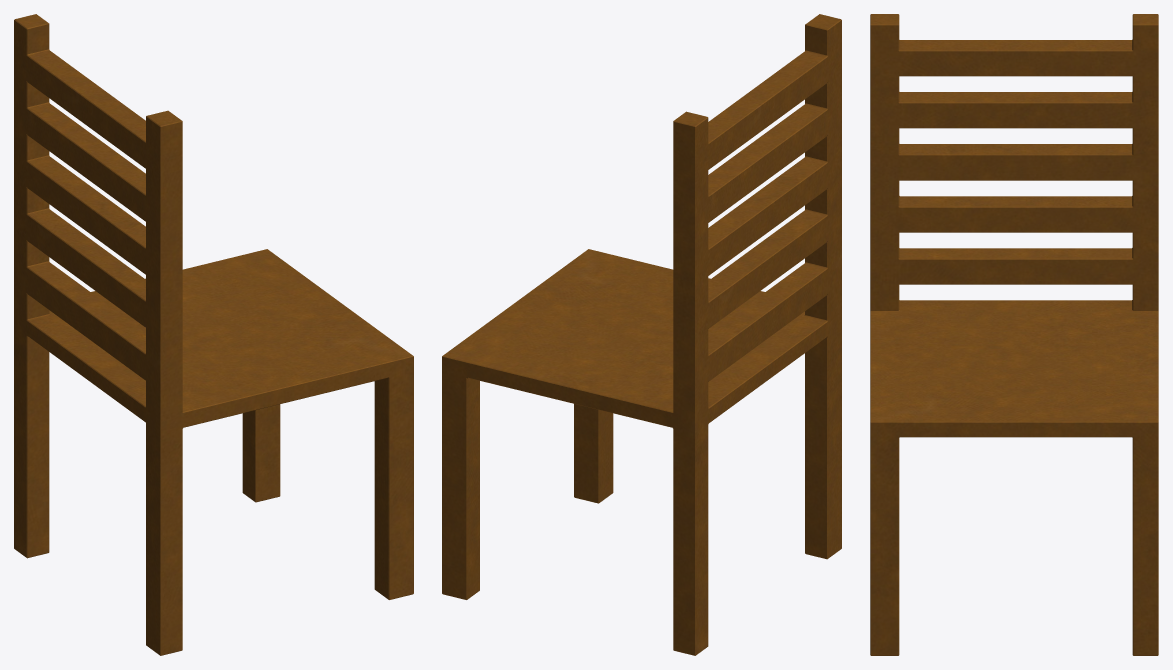
File: chair.glb
3 renders of one model, left to right at view 1: azimuth 30°, elevation 25°; view 2: azimuth 150°, elevation 25°; view 3: azimuth 270°, elevation 25°, orthographic.
Visible parts, largest first — view 1: Object_2; view 2: Object_2; view 3: Object_2.
Boxes of the visible parts, x1=… form: Object_2: x1=14, y1=14, x2=413, y2=655; Object_2: x1=442, y1=14, x2=841, y2=655; Object_2: x1=870, y1=14, x2=1158, y2=655.
Size of the model in its own units: 5.33 by 10.63 by 5.33.
Materials: 1 (1 with a texture image).
